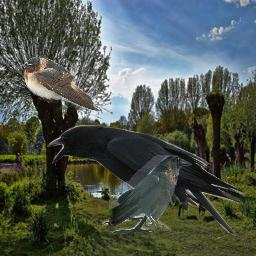Crow: (47, 125, 246, 236), (109, 155, 192, 231)
Swallow: (21, 57, 100, 111)
